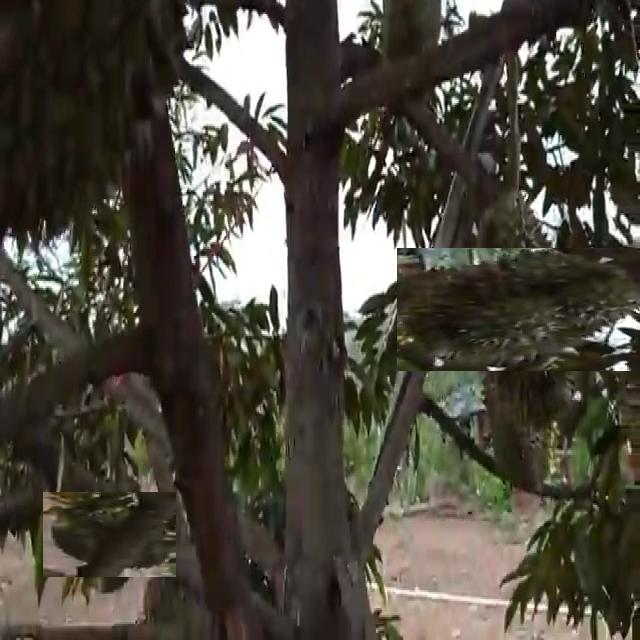durian: (2, 0, 196, 259), (429, 214, 620, 404), (55, 480, 164, 590)
